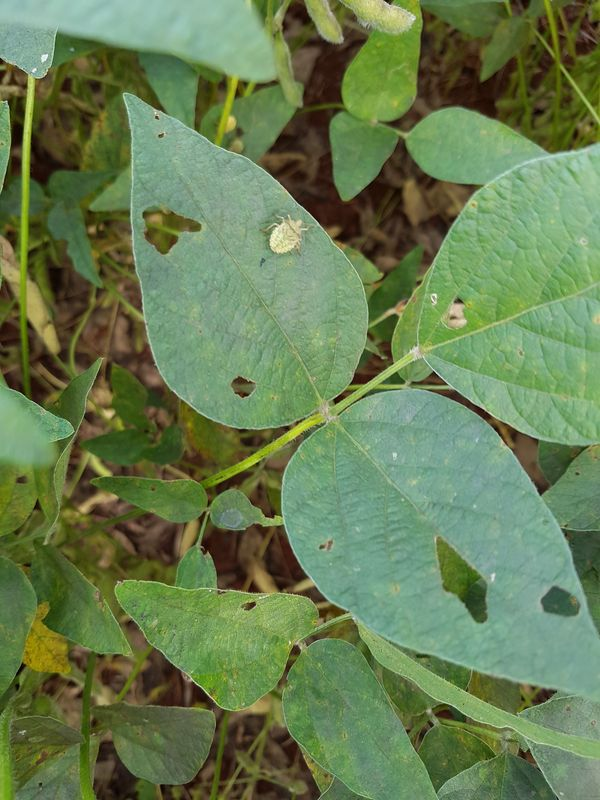Euschistus_heros_ninfa: (253, 205, 321, 265)
